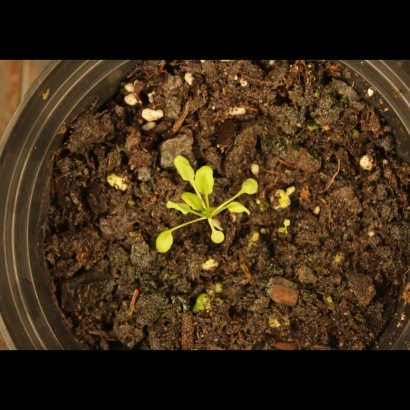leaf: (149, 223, 183, 260), (170, 147, 195, 185), (194, 163, 217, 200), (165, 196, 192, 219), (227, 198, 254, 221), (182, 191, 207, 214), (207, 226, 230, 249), (239, 176, 262, 199)
